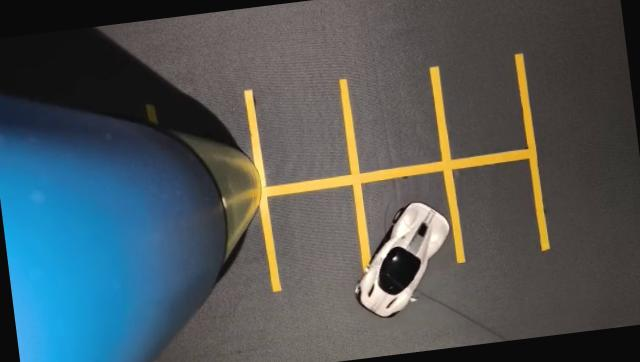toy_car: (328, 178, 478, 326)
